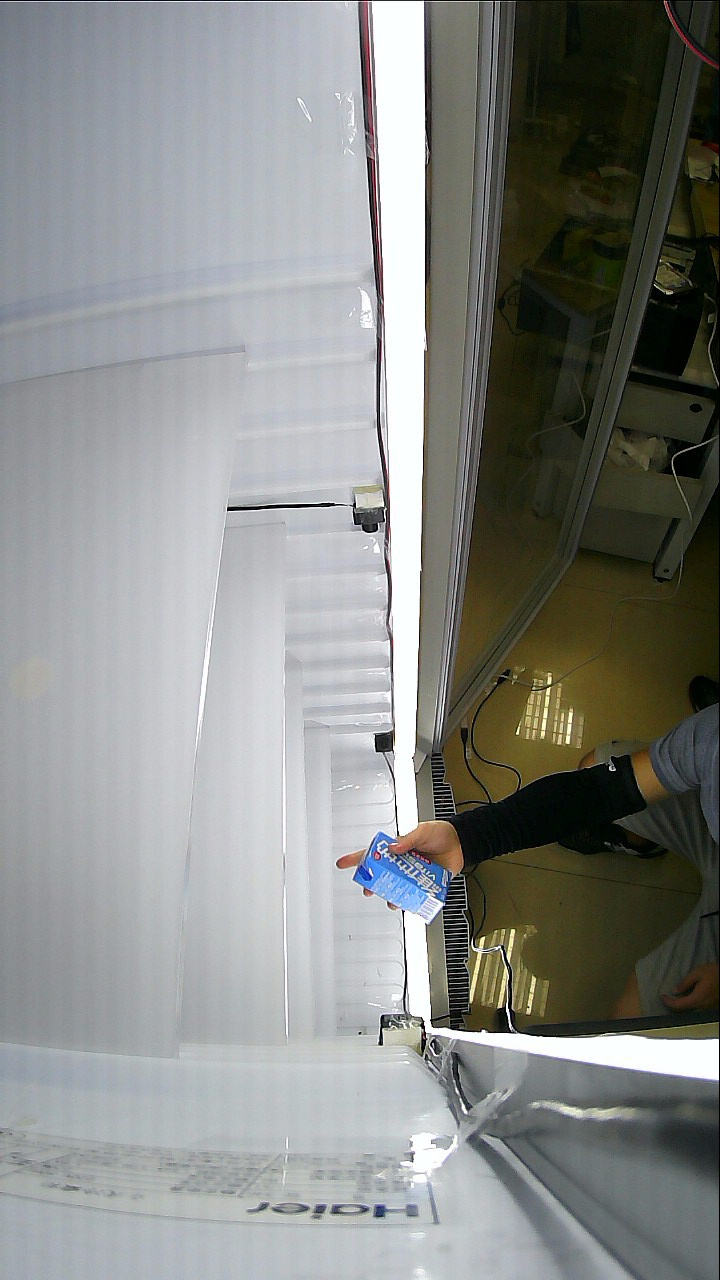VitaSoyOriginal: (339, 812, 477, 923)
